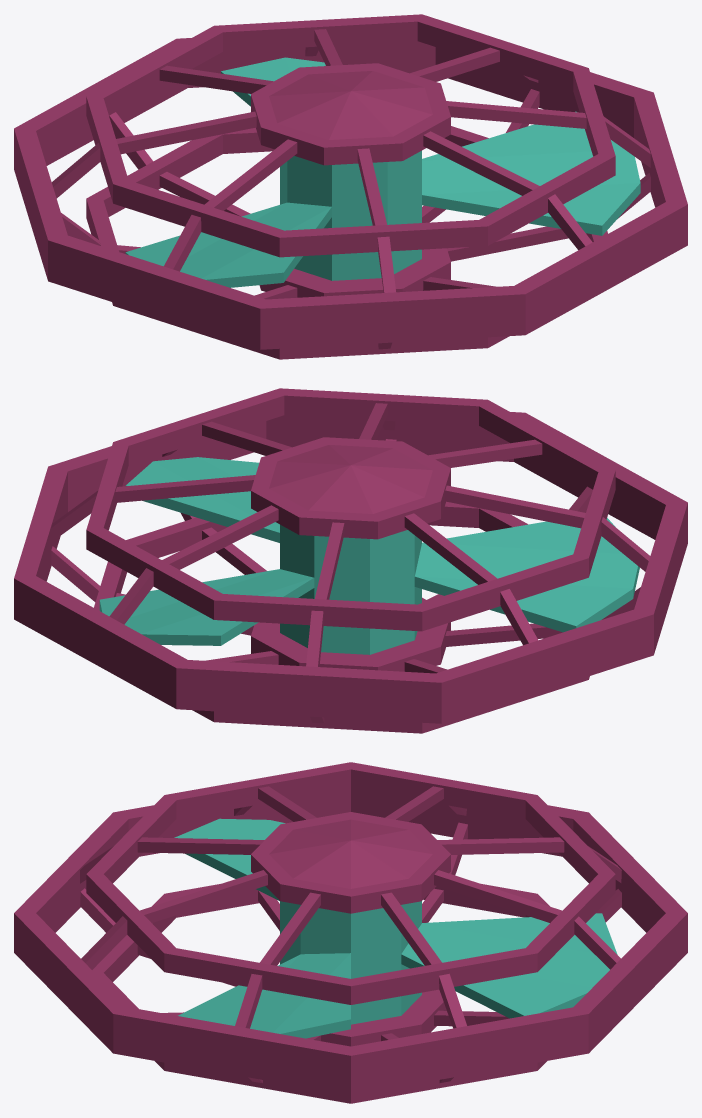
The model's file is Fun.fbx.
The picture shows the model from 3 angles, top to bottom: view 1: azimuth 30°, elevation 25°; view 2: azimuth 150°, elevation 25°; view 3: azimuth 270°, elevation 25°; orthographic projection. The views are drawn at different scales.
Parts seen in each view (by area): view 1: BladeParts, Blades; view 2: BladeParts, Blades; view 3: BladeParts, Blades.
Part boxes in pixels (left/top/right/bottom): BladeParts: left=14, top=14, right=687, bottom=359; Blades: left=125, top=57, right=640, bottom=287; BladeParts: left=14, top=388, right=687, bottom=733; Blades: left=99, top=457, right=639, bottom=654; BladeParts: left=14, top=762, right=687, bottom=1103; Blades: left=174, top=818, right=617, bottom=1038.
Size of the model in its own units: 154 by 46.68 by 154.
